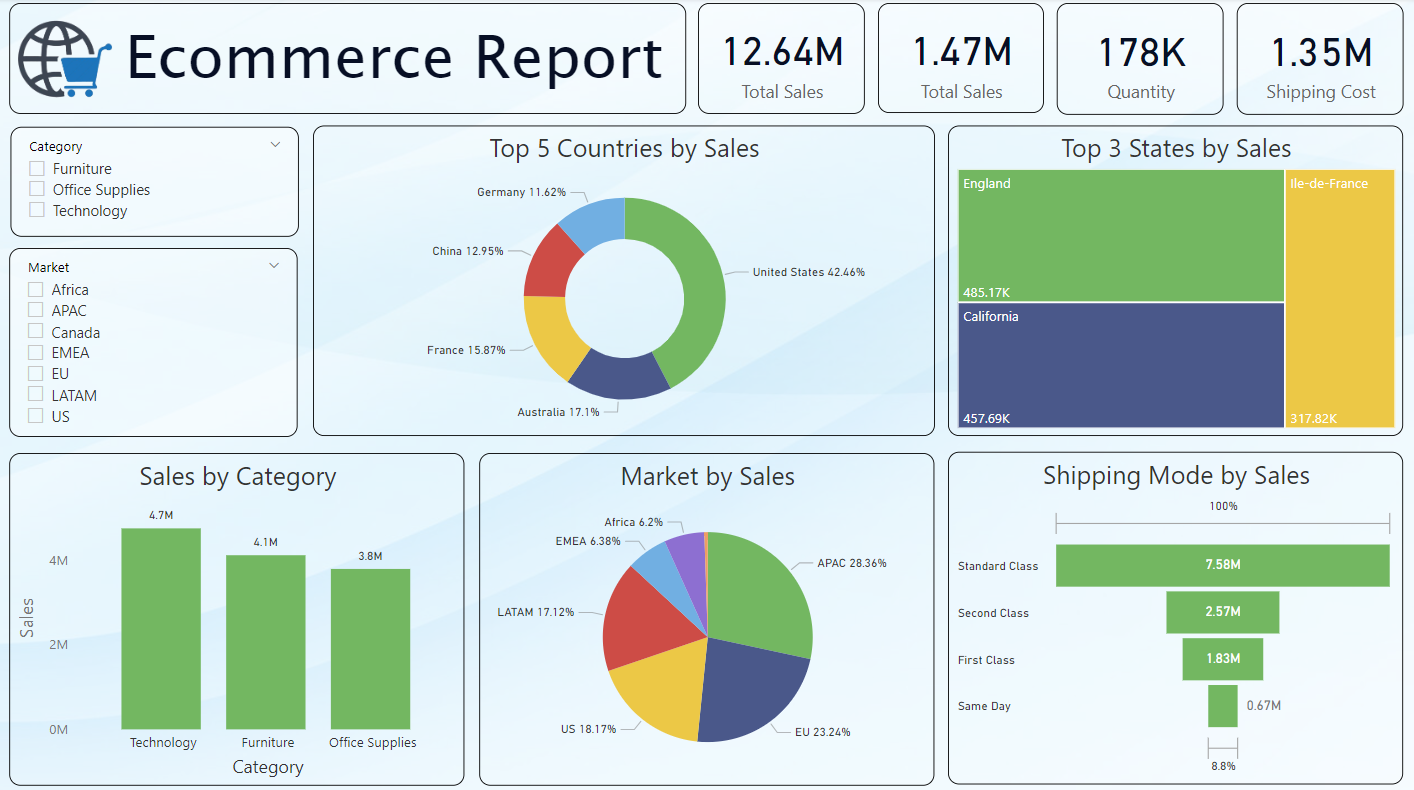

Layout of this report page (visuals, bound fields, positions):
{"tool":"powerbi","page":{"name":"Page 1","canvas":[1280,720],"ordinal":0},"visuals":[{"type":"columnChart","fields":{"Category":["Orders.Category"],"Y":["Sum(Orders.Sales)"]},"box":[10,410,410.5,300],"z":0},{"type":"pieChart","title":"Market by Sales","fields":{"Category":["Orders.Market"],"Y":["Sum(Orders.Sales)"]},"box":[434.1,410,410.5,300],"z":1000},{"type":"funnel","title":"Shipping Mode by Sales","fields":{"Category":["Orders.Ship Mode"],"Y":["Sum(Orders.Sales)"]},"box":[857.1,409.3,410.5,300],"z":2000},{"type":"donutChart","title":"Top 5 Countries by Sales","fields":{"Category":["Orders.Country"],"Y":["Sum(Orders.Sales)"]},"box":[283.7,115.1,560.5,280.2],"z":3000},{"type":"treemap","title":"Top 3 States by Sales","fields":{"Group":["Orders.State"],"Values":["Sum(Orders.Sales)"]},"box":[857,115.1,410.5,280.2],"z":4000},{"type":"card","fields":{"Values":["Sum(Orders.Sales)"]},"box":[631,5,150.5,100],"z":5000},{"type":"card","fields":{"Values":["Sum(Orders.Profit)"]},"box":[793,5,149.3,99.5],"z":6000},{"type":"card","fields":{"Values":["Sum(Orders.Quantity)"]},"box":[955,5,150.5,100.8],"z":7000},{"type":"card","fields":{"Values":["Sum(Orders.Shipping Cost)"]},"box":[1117.1,5,150.5,100.8],"z":8000},{"type":"slicer","fields":{"Values":["Orders.Category"]},"box":[11.2,115.7,260,99.5],"z":9000},{"type":"slicer","fields":{"Values":["Orders.Market"]},"box":[10,225.2,260,170.4],"z":10000},{"type":"textbox","box":[10.5,5,610.5,100],"z":11000},{"type":"image","box":[11.2,5,98.3,100.8],"z":12000}]}

Visuals, with their boxes in screenshot pixels (x1, y1, x2, y2), scaled from the page's 1280x720 canvas onto the 1414x790 screenshot:
columnChart - Orders.Category x Sum(Orders.Sales): [11,450,465,779]
"Market by Sales" pieChart: [480,450,933,779]
"Shipping Mode by Sales" funnel: [947,449,1400,778]
"Top 5 Countries by Sales" donutChart: [313,126,933,434]
"Top 3 States by Sales" treemap: [947,126,1400,434]
card - Sum(Orders.Sales): [697,5,863,115]
card - Sum(Orders.Profit): [876,5,1041,115]
card - Sum(Orders.Quantity): [1055,5,1221,116]
card - Sum(Orders.Shipping Cost): [1234,5,1400,116]
slicer - Orders.Category: [12,127,300,236]
slicer - Orders.Market: [11,247,298,434]
textbox: [12,5,686,115]
image: [12,5,121,116]
